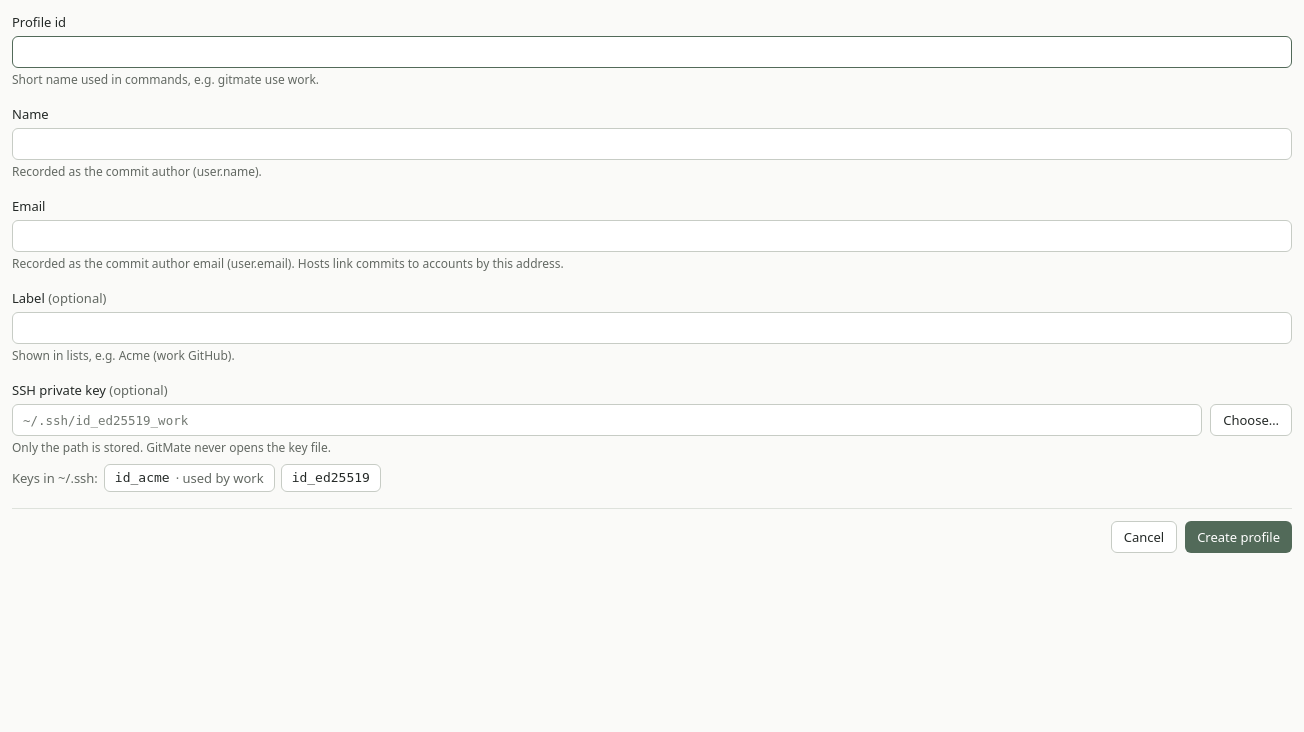
Scenario: ProfileForm › fills the key field with one click on a key found in ~/.ssh
Click the button "id_ed25519". click: click(331, 478)
box: [281,464,381,492]
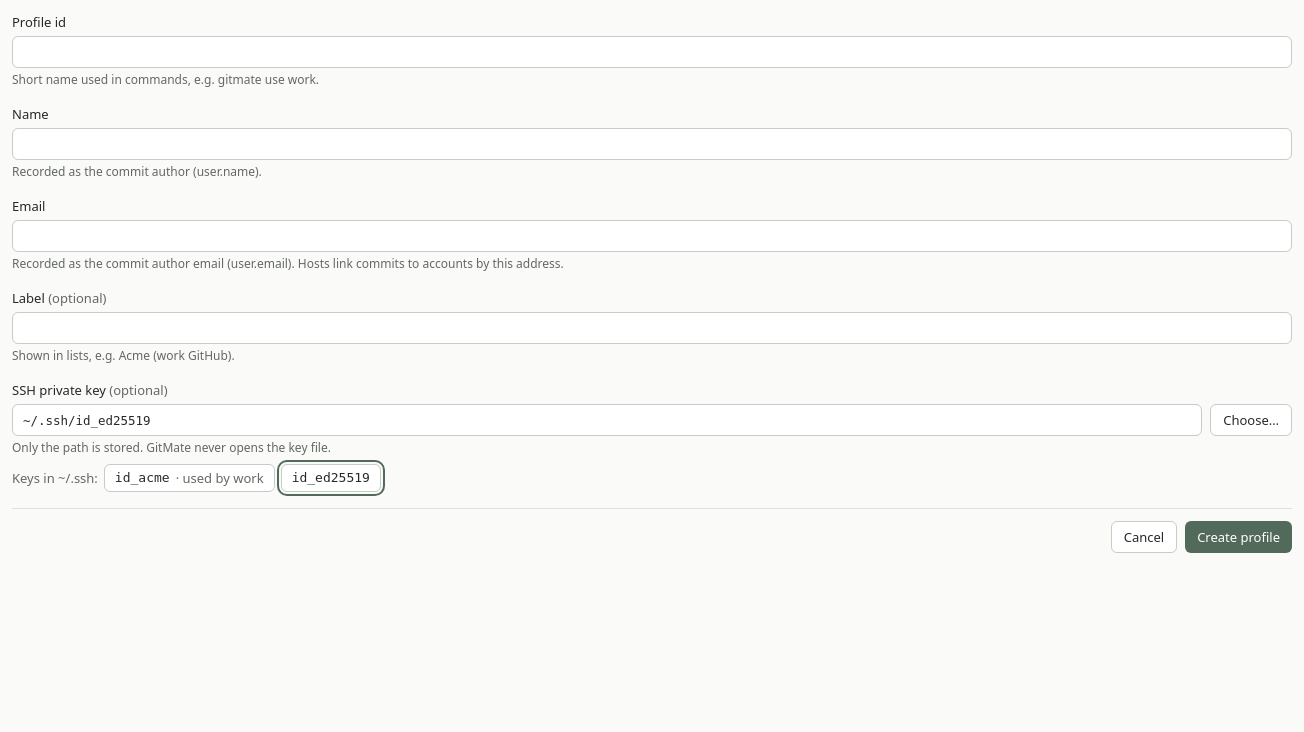
expect the field labelled "SSH private key (optional)" holds "~/.ssh/id_ed25519": met, box [12,404,1202,436]
